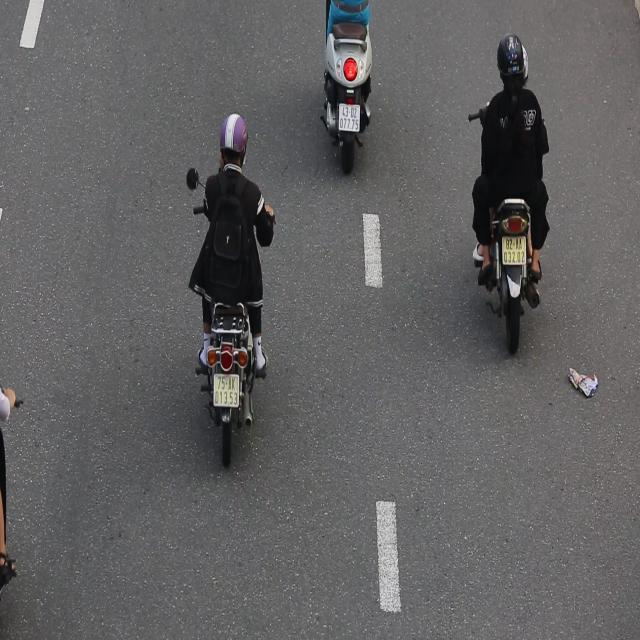motorbike: (183, 104, 277, 474), (467, 32, 554, 362)
